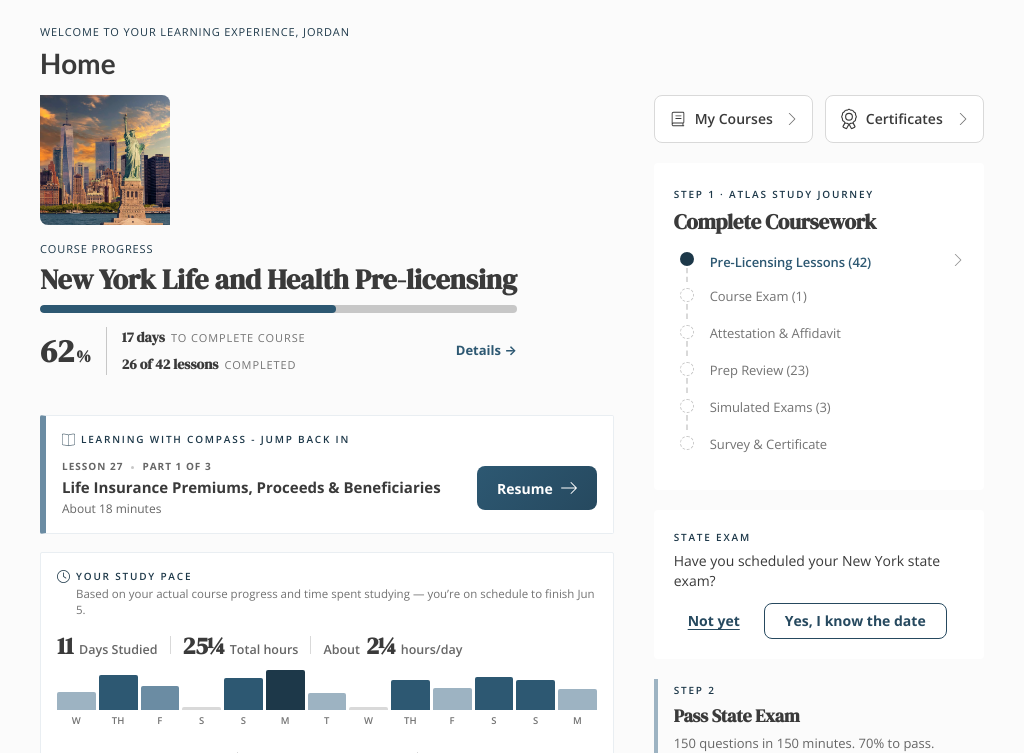
Test case: the Compass player takes the whole window › leaves the lo-fi launcher inside the rail, unchanged
Step 1. Click the button "Resume" → x=537, y=488, box [477,466,597,510]
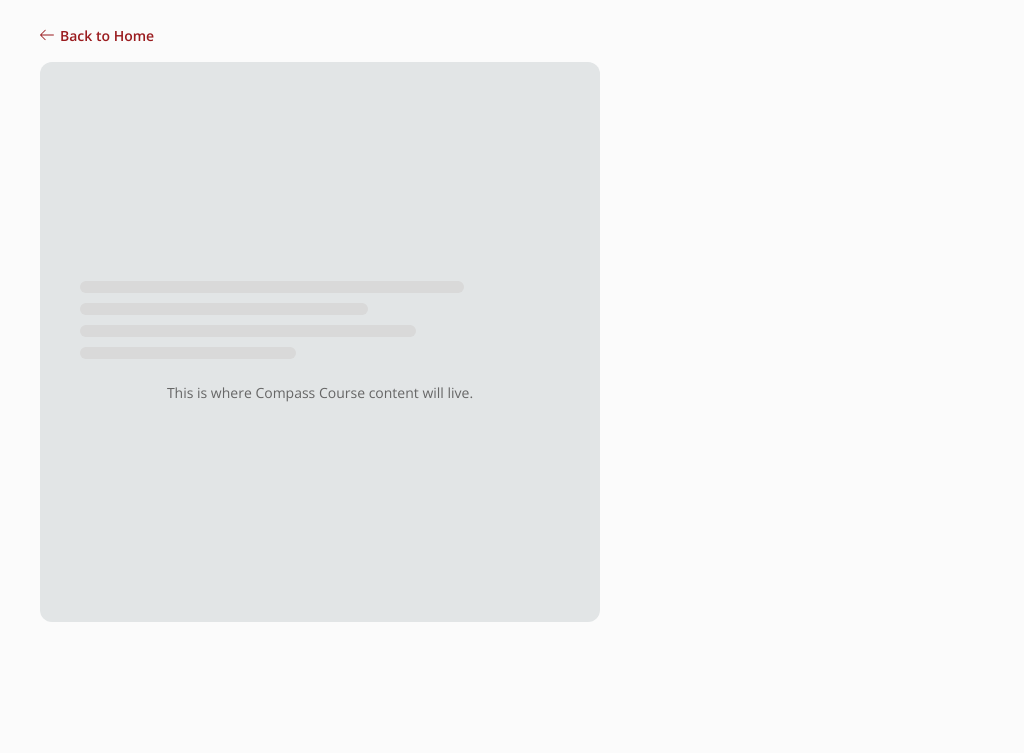
Expected: the element with class "cre-platform-shell-grid" is shown, [40,24,600,622]
Result: the button "Back to Home" is shown at [40,24,154,46]
